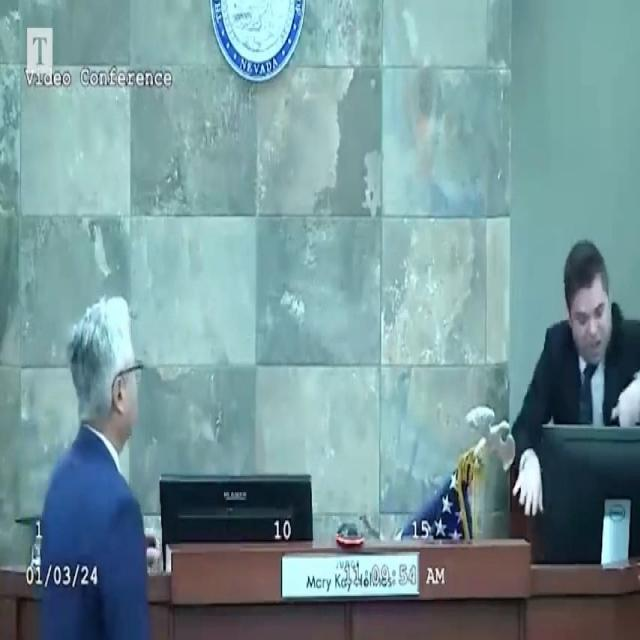fight: (512, 238, 640, 524)
non-fight: (34, 284, 151, 640)
